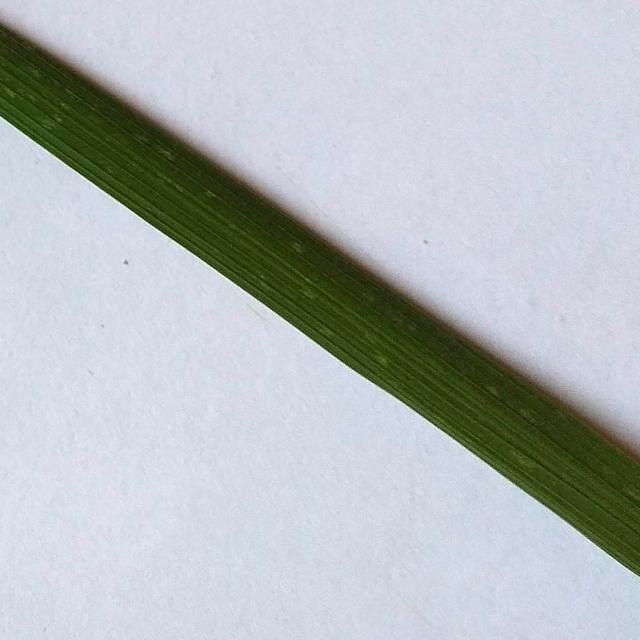Rice_Healthy: (0, 22, 640, 575)
